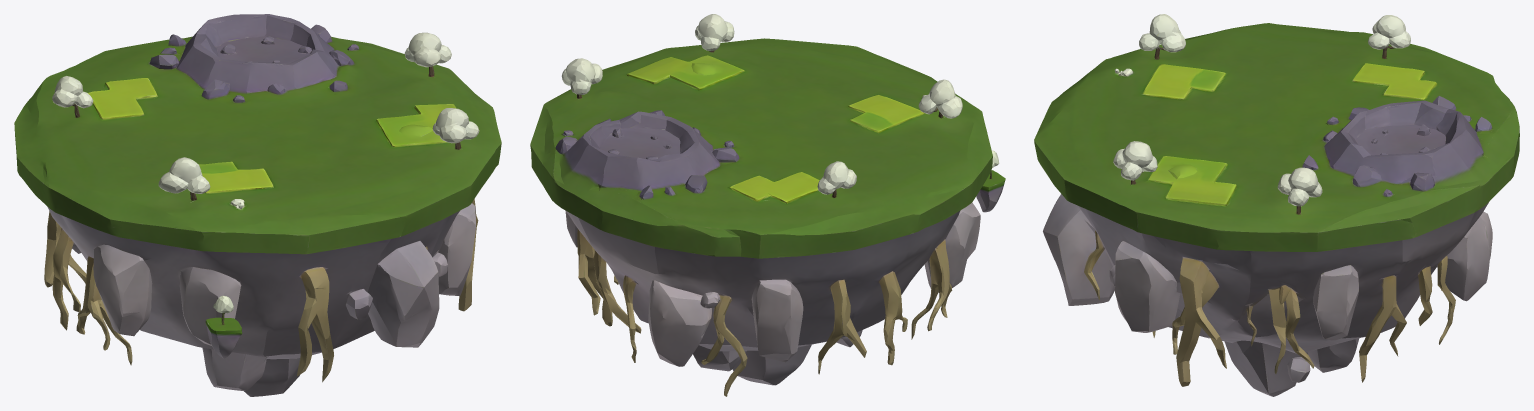
Rendered from stage_01.fbx.
3 views of the same model, side by side, from view 1: azimuth 30°, elevation 25°; view 2: azimuth 150°, elevation 25°; view 3: azimuth 270°, elevation 25° (orthographic). The views are drawn at different scales.
Visible parts, largest first — view 1: model; view 2: model; view 3: model.
Part boxes in pixels (<box>): model: <box>14,14,501,396</box>; model: <box>530,14,1005,396</box>; model: <box>1034,14,1519,396</box>.
Size of the model in its own units: 190 by 133 by 188.
1 material, 1 textured.
